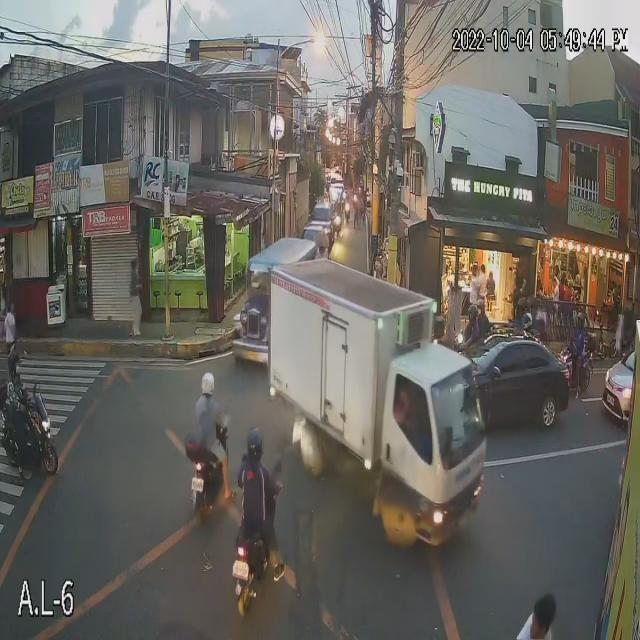helmet: (245, 426, 261, 460), (8, 346, 22, 379), (520, 311, 534, 331), (202, 373, 214, 396), (465, 305, 476, 325), (477, 299, 486, 320), (578, 314, 586, 333)
motorcycle: (185, 425, 233, 518), (233, 532, 286, 614), (4, 393, 50, 477), (451, 330, 495, 368), (564, 342, 595, 394)
rider: (190, 372, 224, 462), (239, 425, 265, 542), (5, 343, 23, 427), (571, 313, 593, 363), (520, 312, 538, 344), (464, 305, 477, 347), (475, 298, 489, 332)
